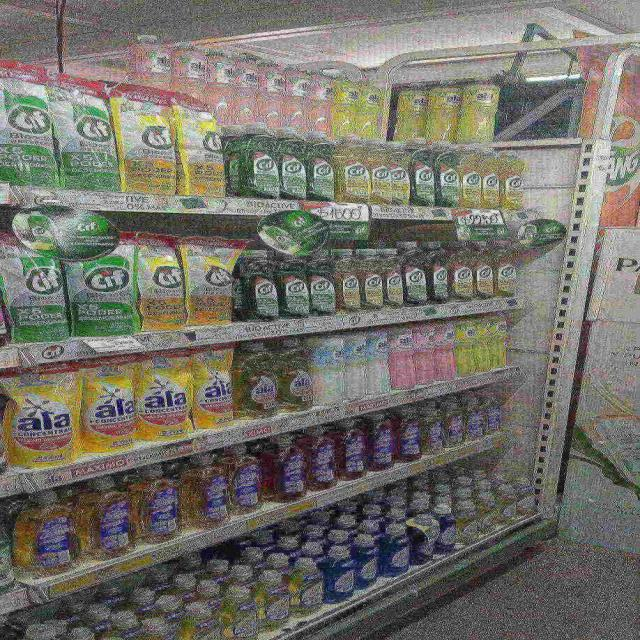ala_sachet_amarillo: (80, 361, 133, 450)
cif_conc_bot_amarilla: (362, 265, 383, 312)
cif_conc_botella_verde: (75, 88, 118, 194), (8, 209, 27, 348), (247, 129, 278, 199), (278, 128, 308, 200), (248, 253, 280, 320), (308, 258, 338, 318), (280, 256, 308, 318), (410, 144, 436, 207), (403, 249, 428, 309), (436, 146, 459, 208), (430, 247, 450, 304)
